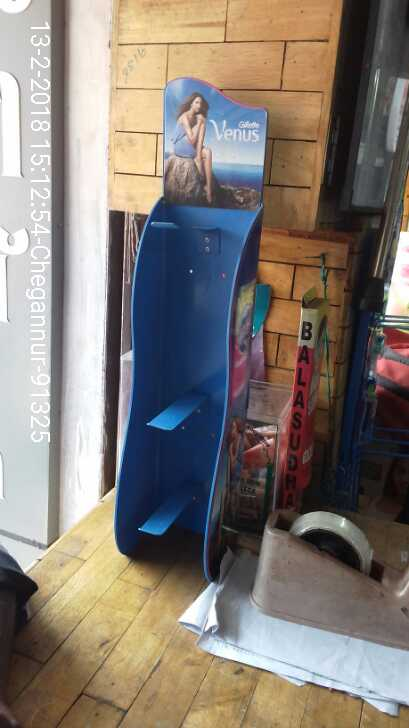reject: (159, 226, 213, 307)
